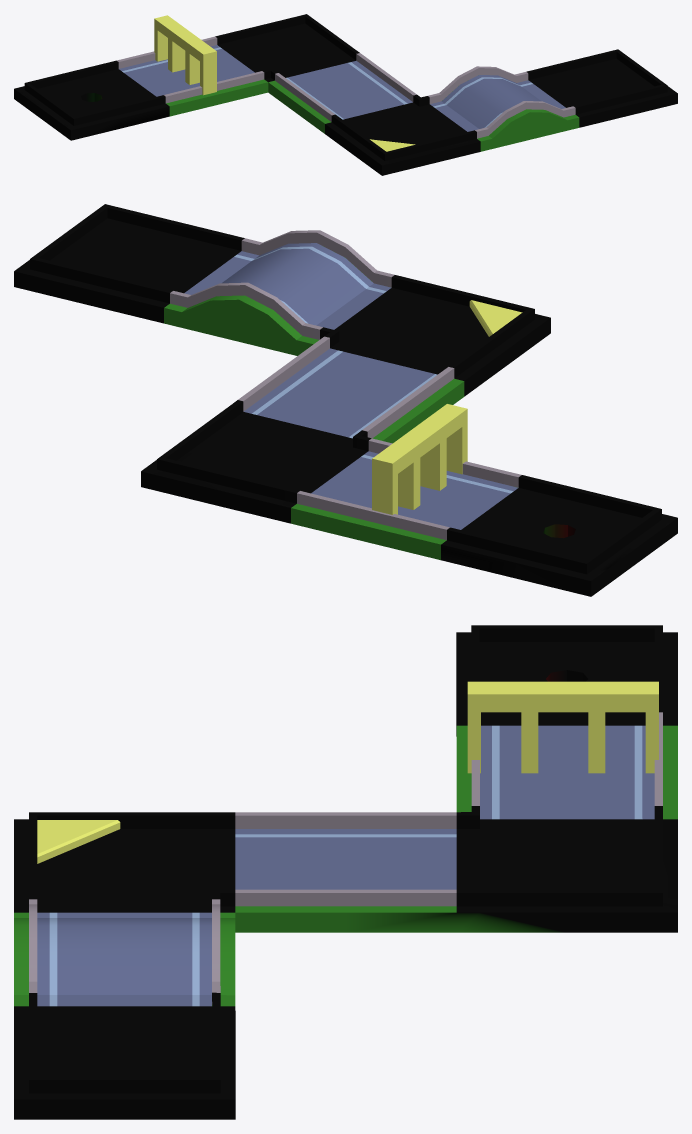
Rendered from Pista2Facil.fbx.
3 renders of one model, top to bottom at view 1: azimuth 30°, elevation 25°; view 2: azimuth 150°, elevation 25°; view 3: azimuth 270°, elevation 25°, orthographic. The views are drawn at different scales.
Parts seen in each view (by area): view 1: Box024.001, Box024.002, Box027, Object001; view 2: Box024.001, Box024.002, Box027, Object001; view 3: Box024.001, Box024.002, Box027, Object001.
Boxes of the visible parts, bbox=[...] form: Box024.001: bbox=[14, 23, 677, 175]; Box024.002: bbox=[24, 14, 667, 160]; Box027: bbox=[154, 15, 216, 95]; Object001: bbox=[370, 139, 415, 151]; Box024.001: bbox=[14, 218, 677, 596]; Box024.002: bbox=[30, 204, 661, 574]; Box027: bbox=[372, 404, 467, 514]; Object001: bbox=[469, 300, 522, 336]; Box024.001: bbox=[14, 632, 677, 1119]; Box024.002: bbox=[29, 625, 662, 1093]; Box027: bbox=[467, 681, 658, 773]; Object001: bbox=[37, 820, 120, 863].
Bounding box in the file's own units: 252 × 24.94 × 151.
